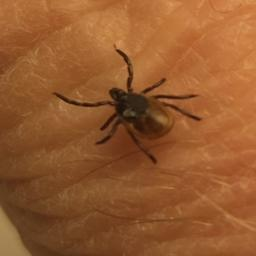Ixodes scapularis: (46, 89, 169, 213)
